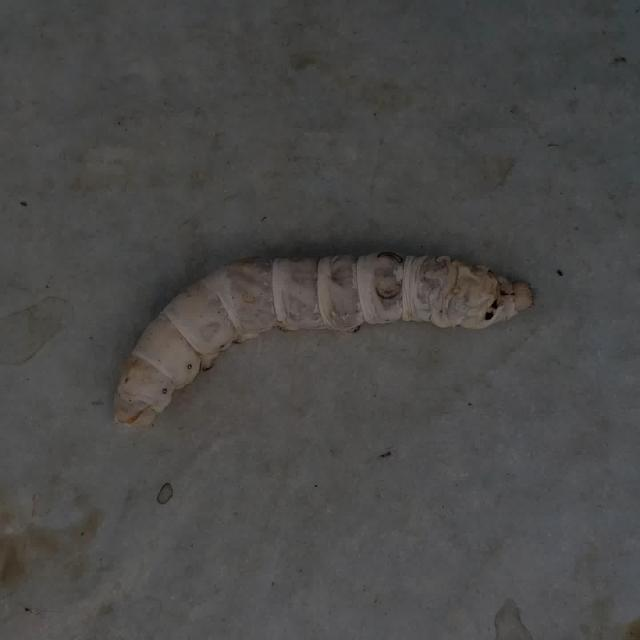Grasserie: (80, 209, 551, 476)
